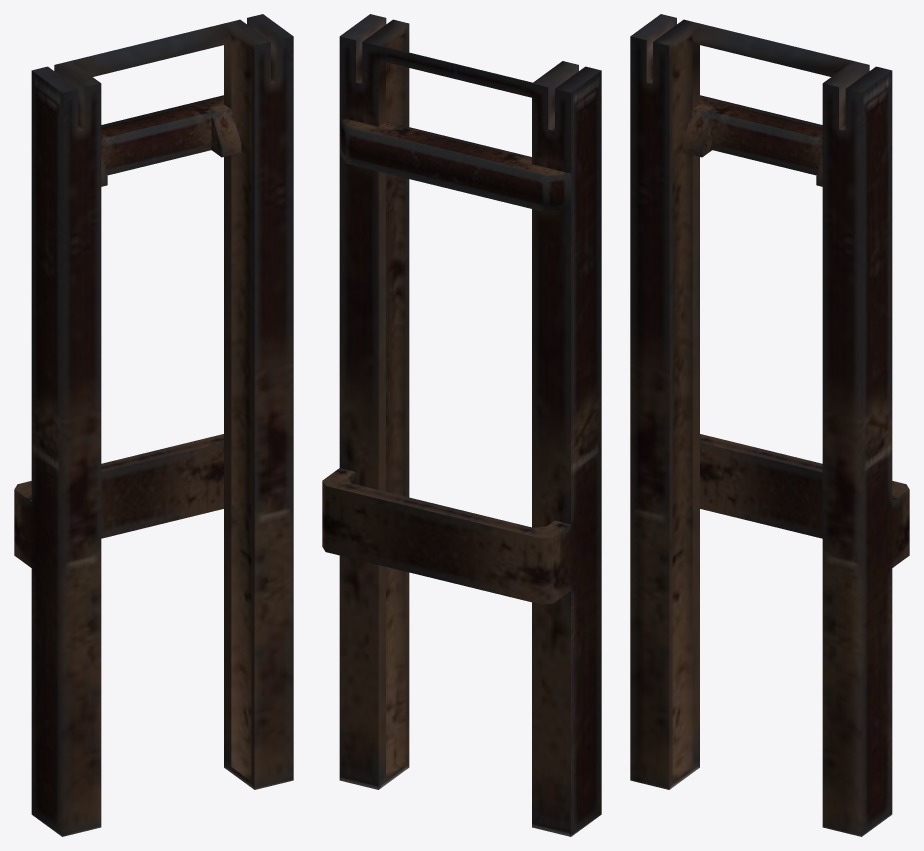
Rendered from fl_inner.glb.
The picture shows the model from 3 angles, left to right: view 1: azimuth 30°, elevation 25°; view 2: azimuth 150°, elevation 25°; view 3: azimuth 330°, elevation 25°; orthographic projection.
Bounding box in the file's own units: 0.5876 × 1.81 × 0.2305.
Materials: 1 (1 with a texture image).
